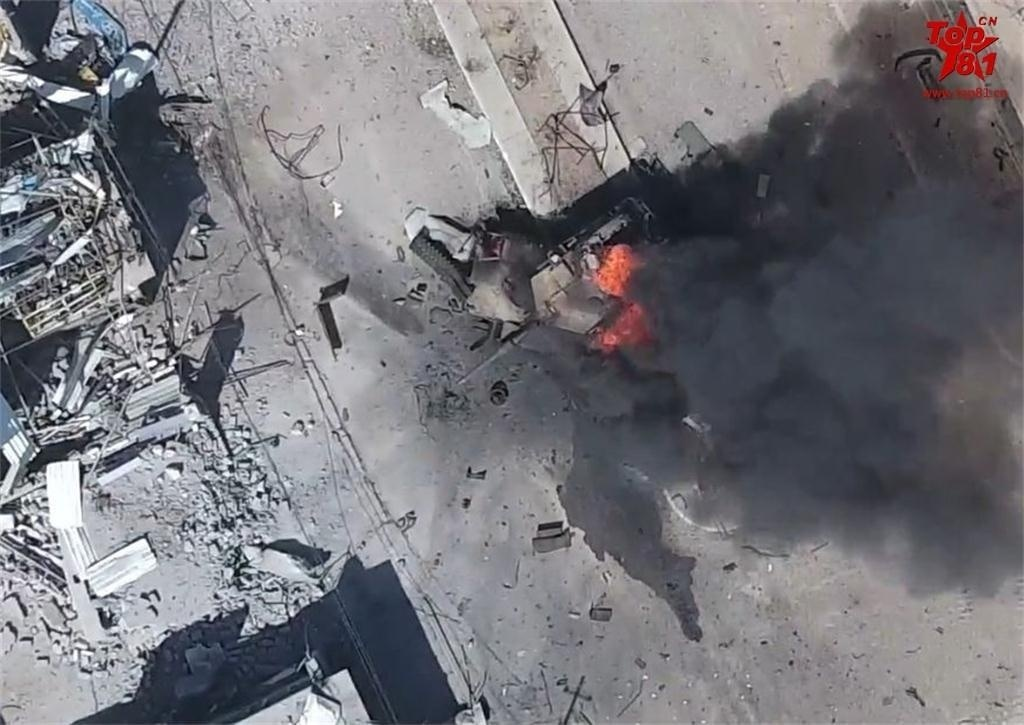fire: (589, 240, 650, 353)
